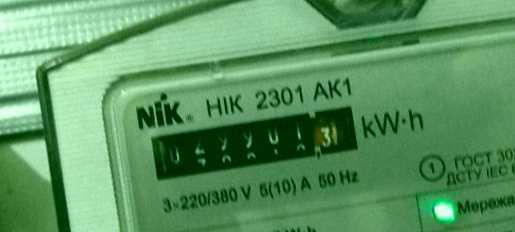0: (262, 119, 280, 146), (163, 140, 181, 164)
1: (288, 115, 304, 141)
2: (188, 131, 206, 155)
3: (315, 123, 333, 148)
9: (238, 125, 253, 149), (213, 128, 228, 150)
screen: (139, 95, 367, 190)
